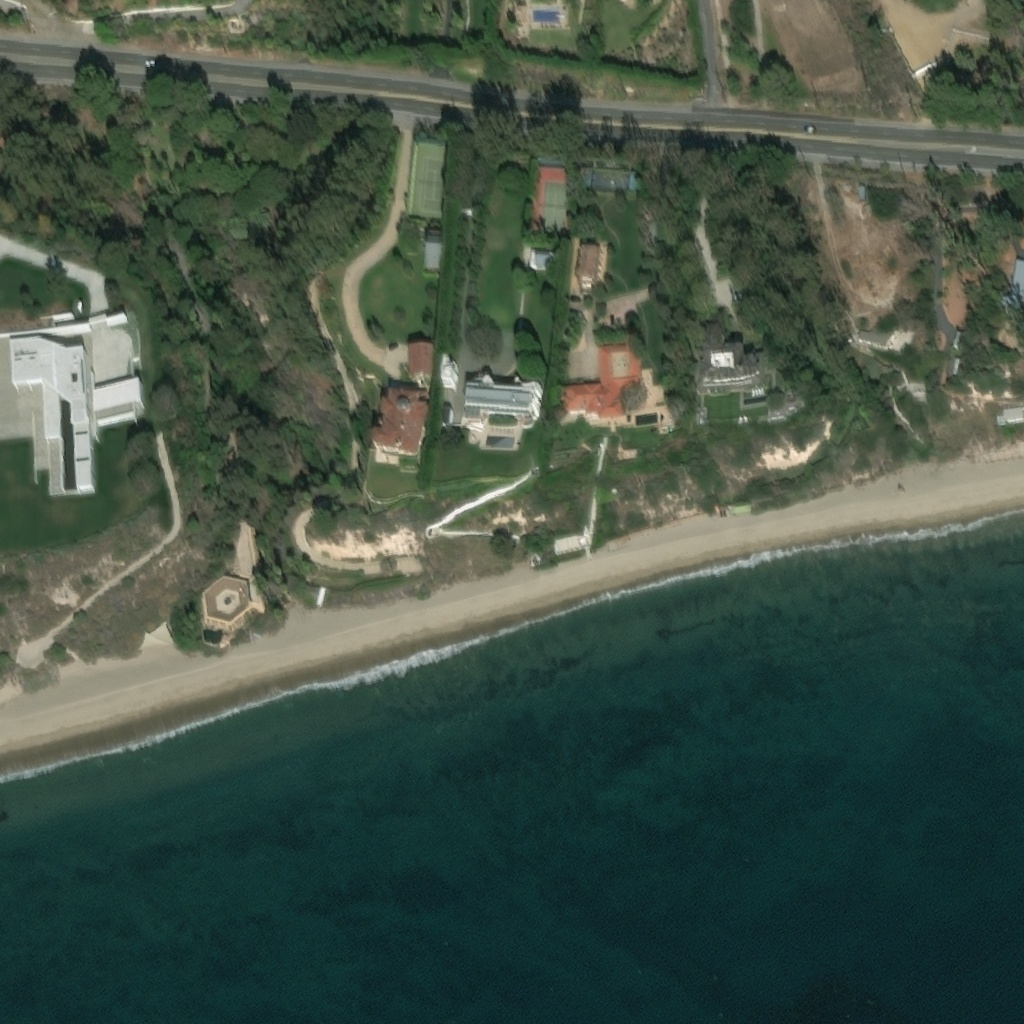0 no-damage: (0, 329, 145, 497), (564, 330, 646, 420), (695, 325, 767, 392), (373, 389, 433, 461), (464, 377, 542, 417), (202, 575, 252, 627), (854, 327, 915, 360), (578, 248, 601, 289), (423, 233, 445, 273), (410, 347, 434, 381), (1008, 260, 1023, 305), (994, 402, 1023, 423), (950, 361, 965, 382), (536, 256, 553, 270), (731, 497, 749, 507)
4 un-classified: (624, 449, 638, 459)
